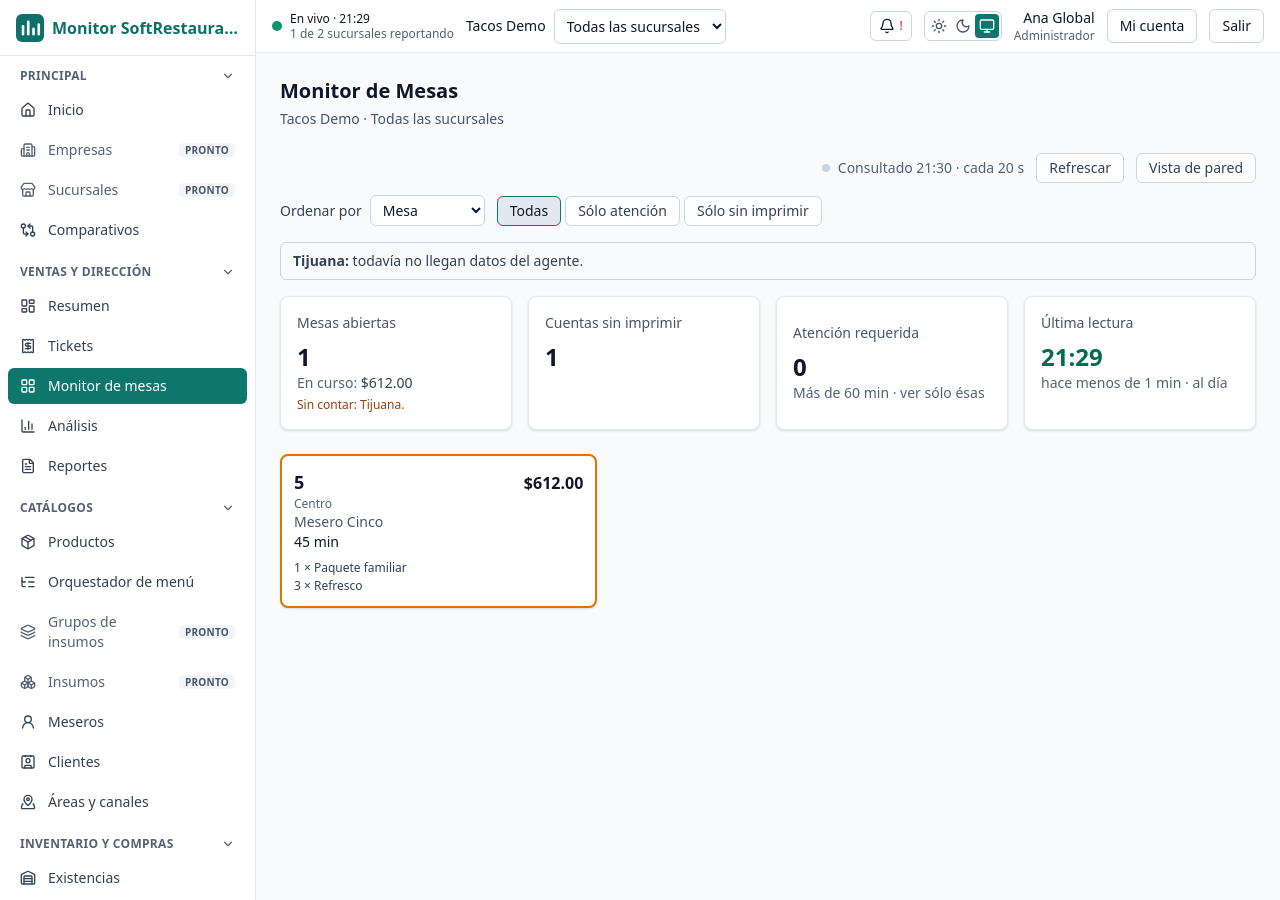
Test case: Detalle de consumo (modal, F1-051) › con "Todas", el modal dice de qué sucursal es
Expected: the text with test id "kpi-mesas" is shown, [297,340,311,373]
Click the button named "Ver consumo de Mesa 5 · Centro".
click(439, 531)  # box [282,456,595,606]
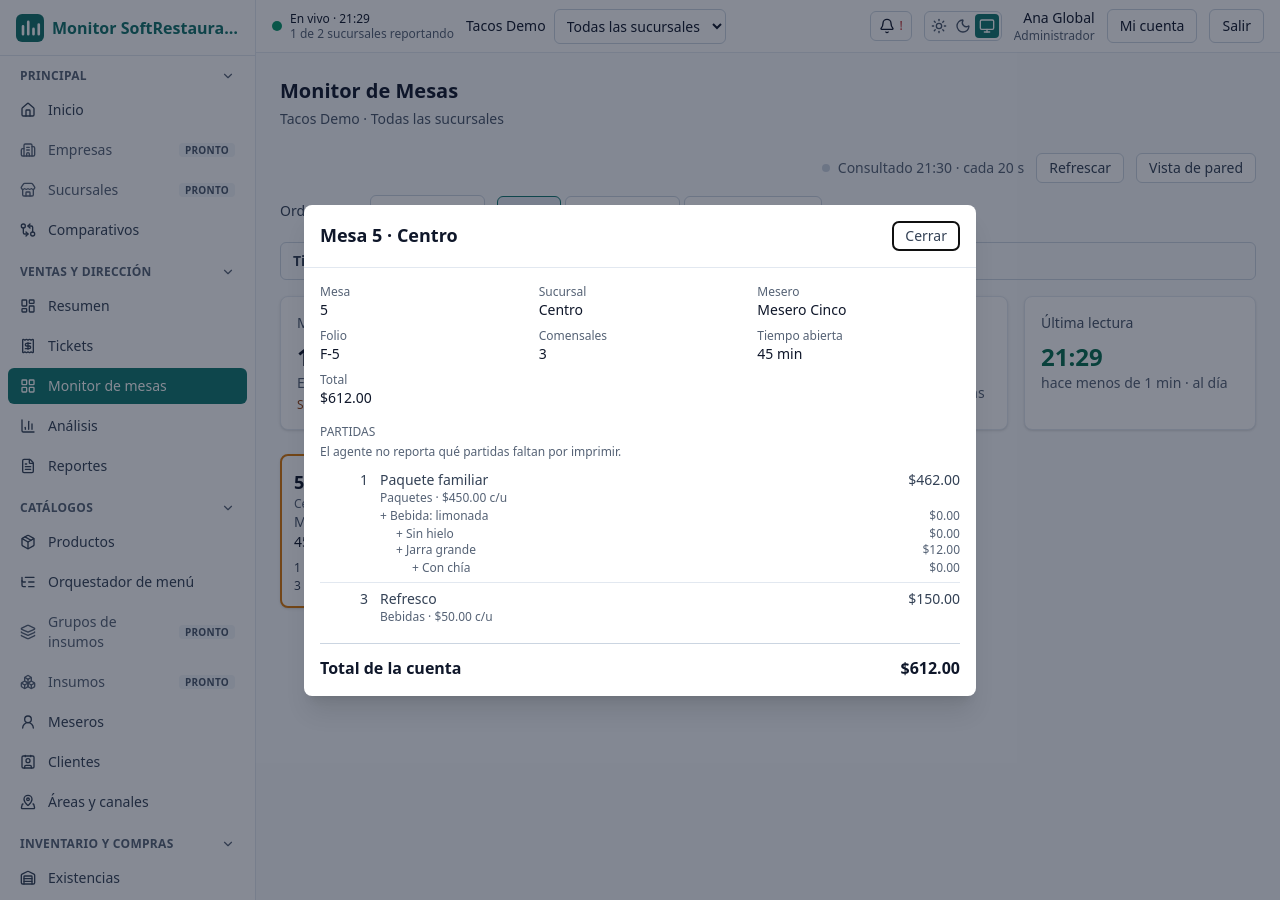
Now the text with test id "detalle-sucursal" reads "Centro", box [539,300,583,318]
